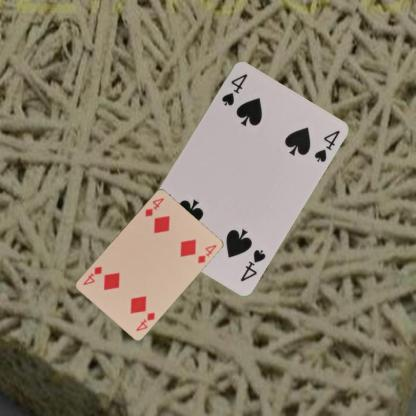4d: (142, 195, 165, 218), (133, 309, 156, 332)
4s: (218, 70, 249, 107), (237, 246, 267, 283)
